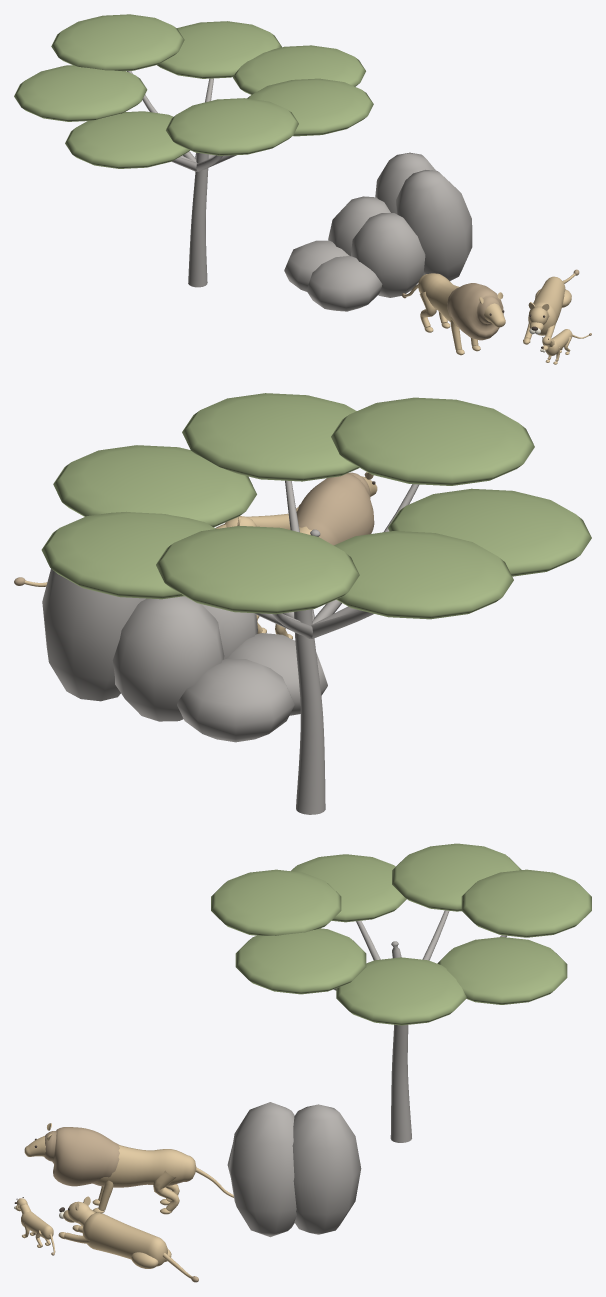
File: savanna-wildlife-pride-on-kopje-7de7dc9b__6569.glb
3 renders of one model, top to bottom at view 1: azimuth 30°, elevation 25°; view 2: azimuth 150°, elevation 25°; view 3: azimuth 270°, elevation 25°, orthographic. The views are drawn at different scales.
Visible parts, largest first — view 1: 004-umbrella-acacia/1, 000-kopje-boulder-cluster/1, 000-kopje-boulder-cluster/0, 004-umbrella-acacia/0, 001-lion-male-standing/0, 001-lion-male-standing/2, 002-lioness-lying/0, 003-lion-cub/0; view 2: 004-umbrella-acacia/1, 000-kopje-boulder-cluster/0, 000-kopje-boulder-cluster/1, 004-umbrella-acacia/0, 001-lion-male-standing/2; view 3: 004-umbrella-acacia/1, 000-kopje-boulder-cluster/1, 000-kopje-boulder-cluster/0, 001-lion-male-standing/0, 002-lioness-lying/0, 001-lion-male-standing/2, 004-umbrella-acacia/0, 003-lion-cub/0.
Part boxes in pixels (left/top/right/bottom): 004-umbrella-acacia/1: left=14, top=14, right=373, bottom=168; 000-kopje-boulder-cluster/1: left=306, top=170, right=472, bottom=311; 000-kopje-boulder-cluster/0: left=284, top=152, right=435, bottom=297; 004-umbrella-acacia/0: left=127, top=71, right=236, bottom=287; 001-lion-male-standing/0: left=404, top=273, right=505, bottom=355; 001-lion-male-standing/2: left=402, top=283, right=503, bottom=340; 002-lioness-lying/0: left=523, top=273, right=575, bottom=345; 003-lion-cub/0: left=541, top=329, right=589, bottom=364; 004-umbrella-acacia/1: left=41, top=393, right=591, bottom=619; 000-kopje-boulder-cluster/0: left=42, top=569, right=294, bottom=742; 000-kopje-boulder-cluster/1: left=112, top=596, right=327, bottom=721; 004-umbrella-acacia/0: left=253, top=480, right=419, bottom=814; 001-lion-male-standing/2: left=296, top=472, right=374, bottom=545; 004-umbrella-acacia/1: left=211, top=843, right=591, bottom=1025; 000-kopje-boulder-cluster/1: left=229, top=1102, right=296, bottom=1237; 000-kopje-boulder-cluster/0: left=227, top=1104, right=361, bottom=1234; 001-lion-male-standing/0: left=24, top=1123, right=233, bottom=1214; 002-lioness-lying/0: left=58, top=1196, right=192, bottom=1278; 001-lion-male-standing/2: left=44, top=1127, right=119, bottom=1186; 004-umbrella-acacia/0: left=333, top=910, right=506, bottom=1142; 003-lion-cub/0: left=15, top=1198, right=55, bottom=1253.
Bounding box in the file's own units: 10.34 × 4.85 × 10.8.
